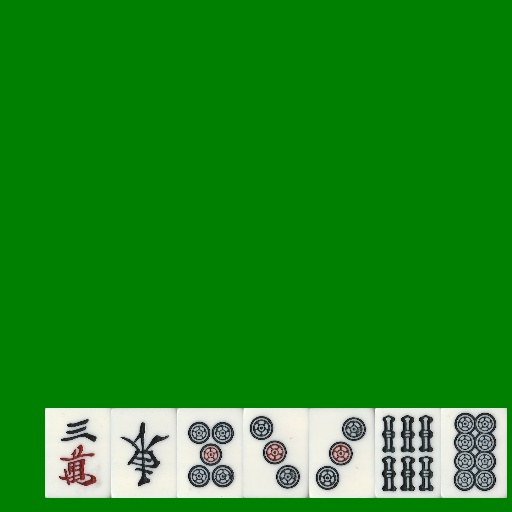3m: (45, 408, 111, 498)
3p: (243, 408, 309, 498), (309, 408, 375, 498)
5p: (177, 408, 243, 498)
6s: (375, 408, 441, 498)
8p: (441, 408, 507, 498)
east: (111, 408, 177, 498)
